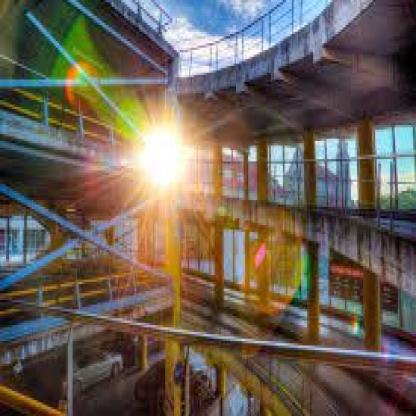other: (114, 103, 201, 192), (254, 230, 294, 307), (166, 228, 191, 299), (63, 48, 94, 99)
